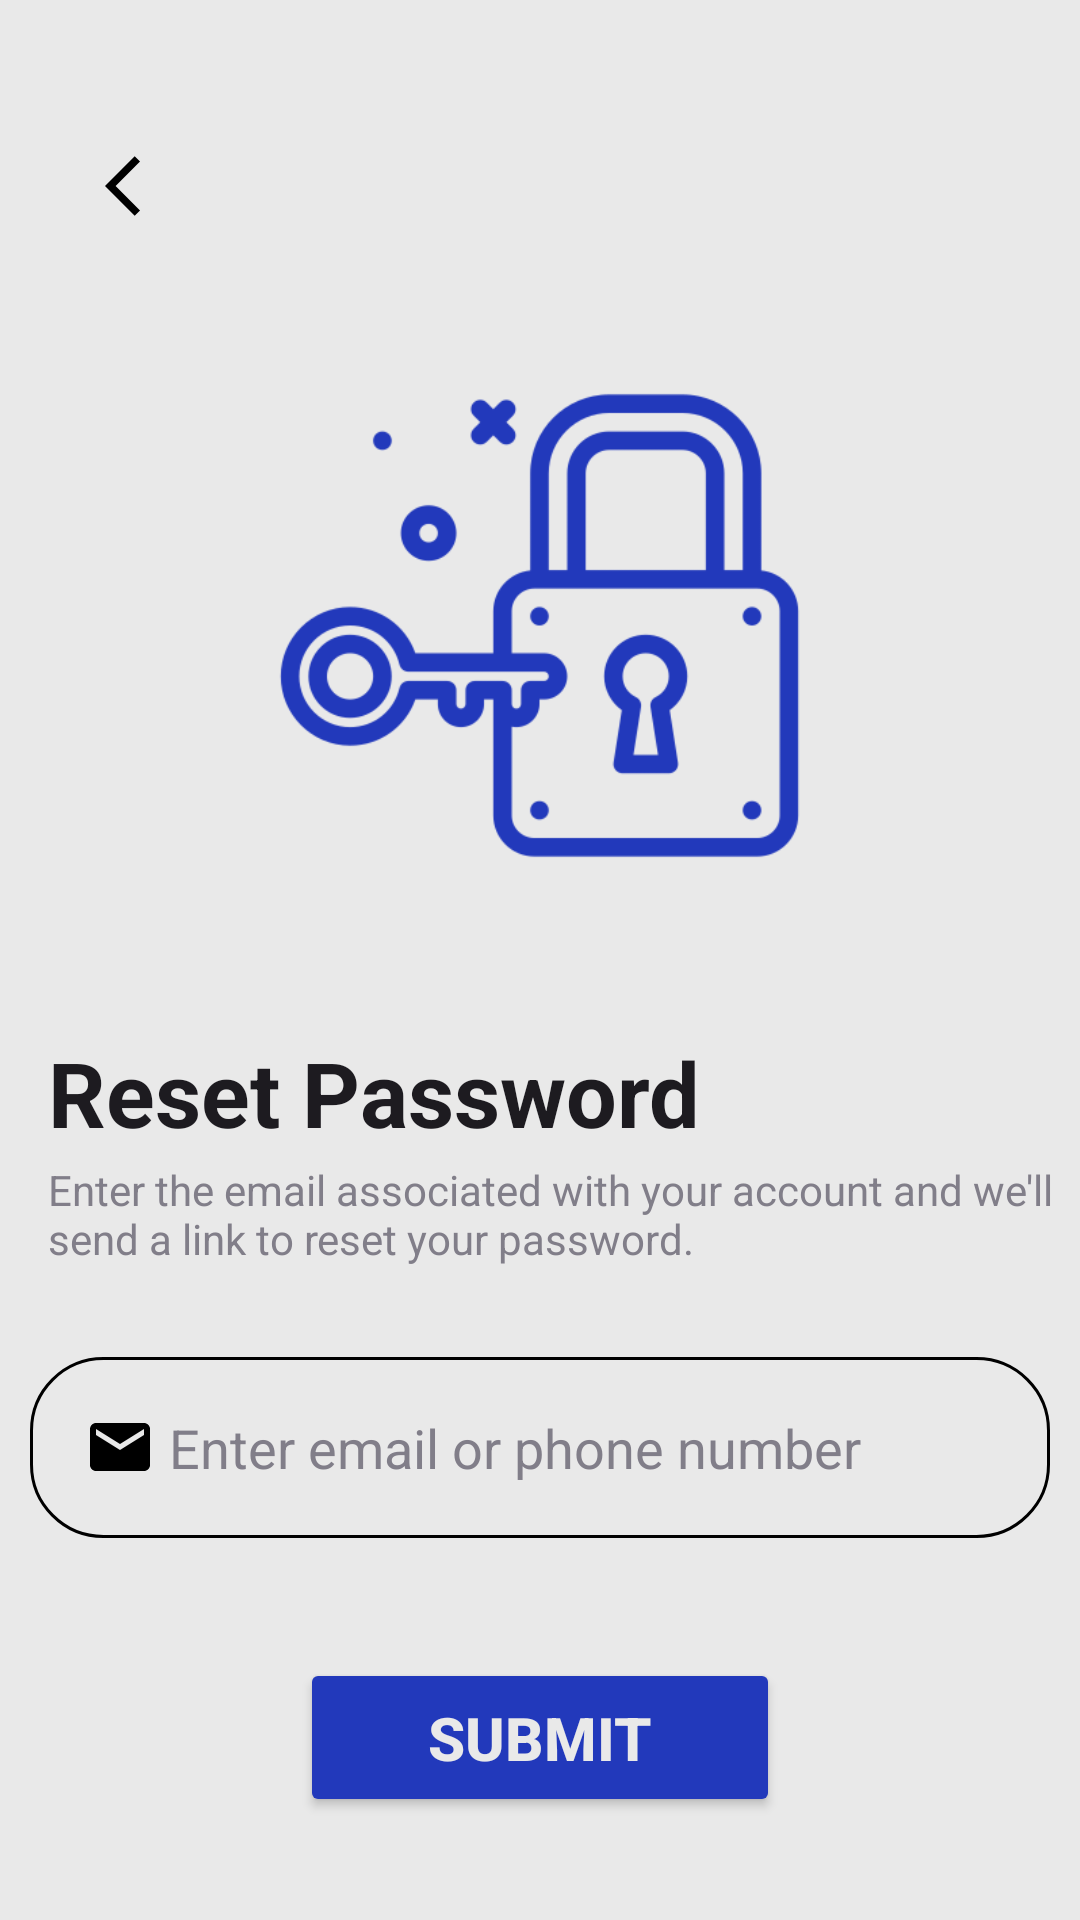

Screen size 1080x1920. Icon name, then its center in pixels as point (x, y):
arrow back: point (122, 186)
